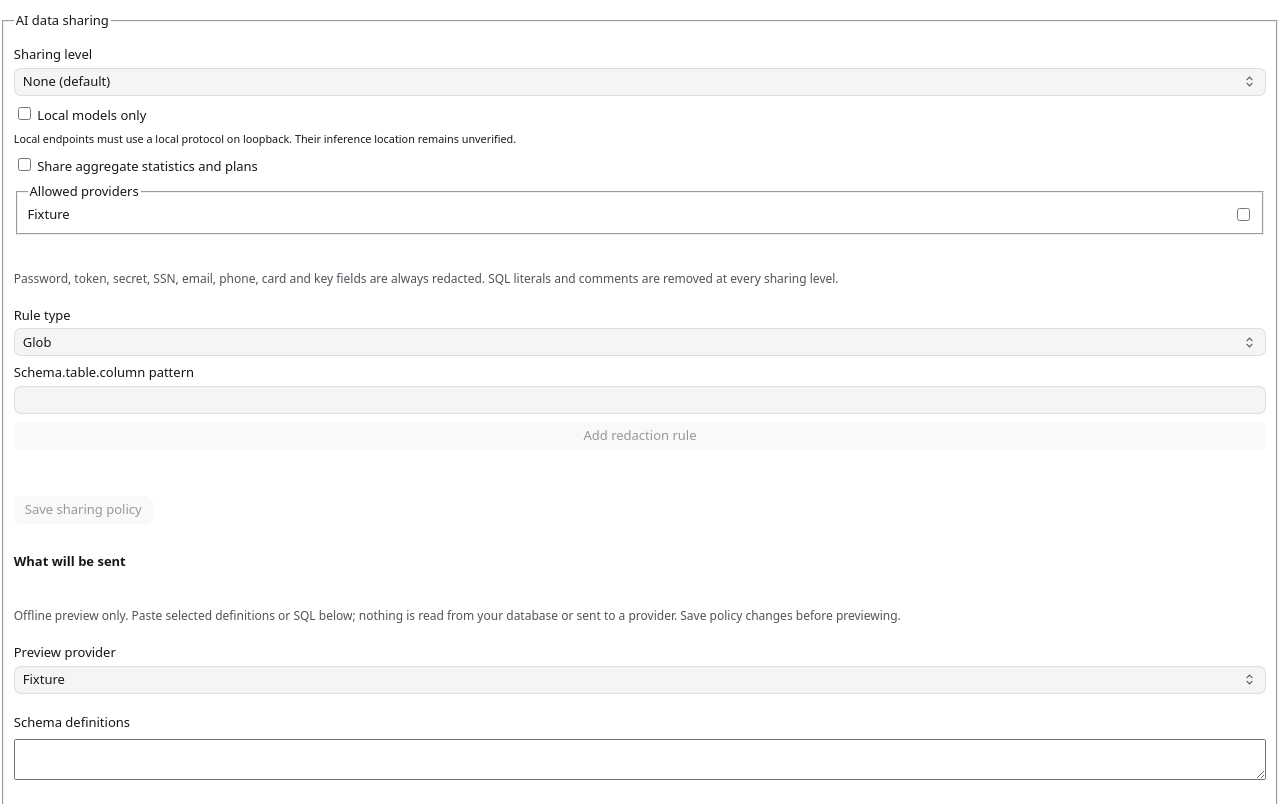
Test case: edits level, provider allowlist, local-only, telemetry and rules before native save
Select "Sample rows" in the dropdown labelled "Sharing level" at [640, 82], box top-left (15, 69), bottom-right (1265, 95)
Click the checkbox named "Allow Fixture" at [1243, 215], box top-left (1236, 208), bottom-right (1250, 221)
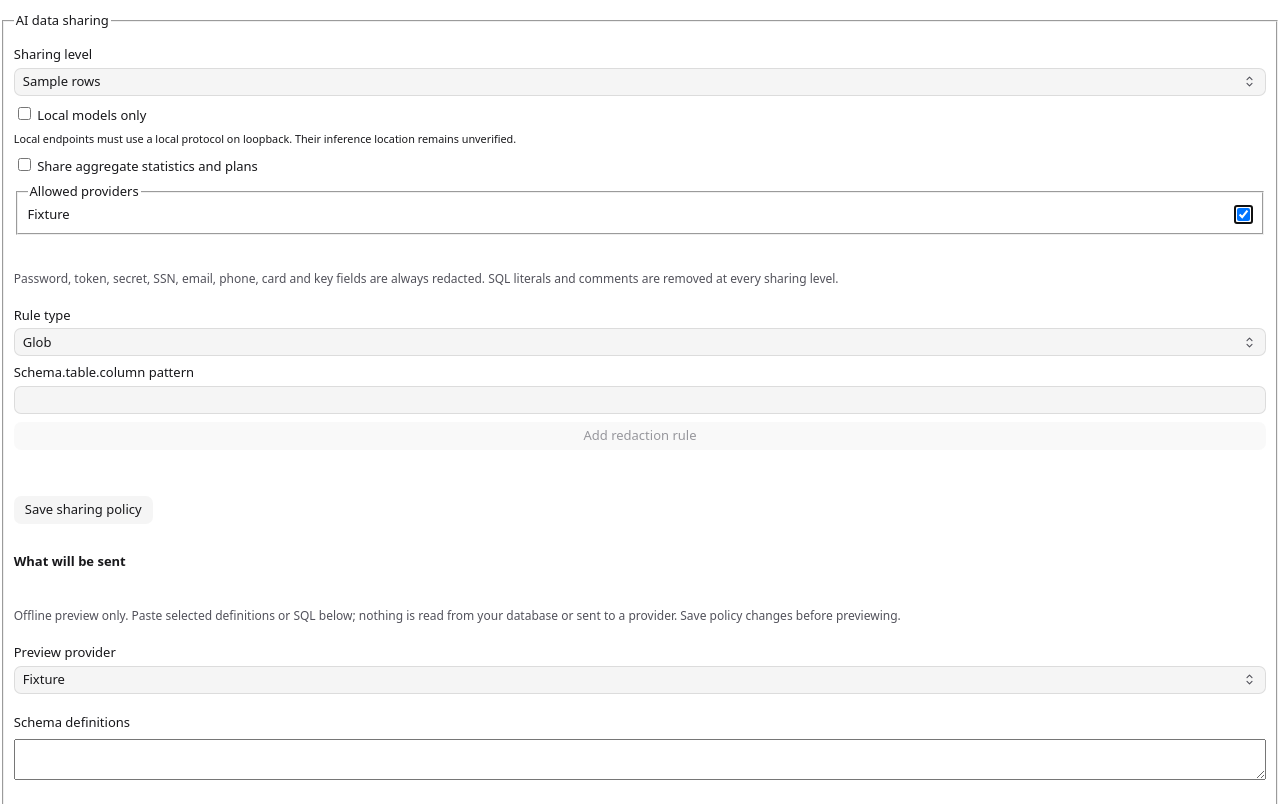
Click the checkbox labelled "Local models only" at [24, 113], box top-left (18, 107), bottom-right (31, 120)
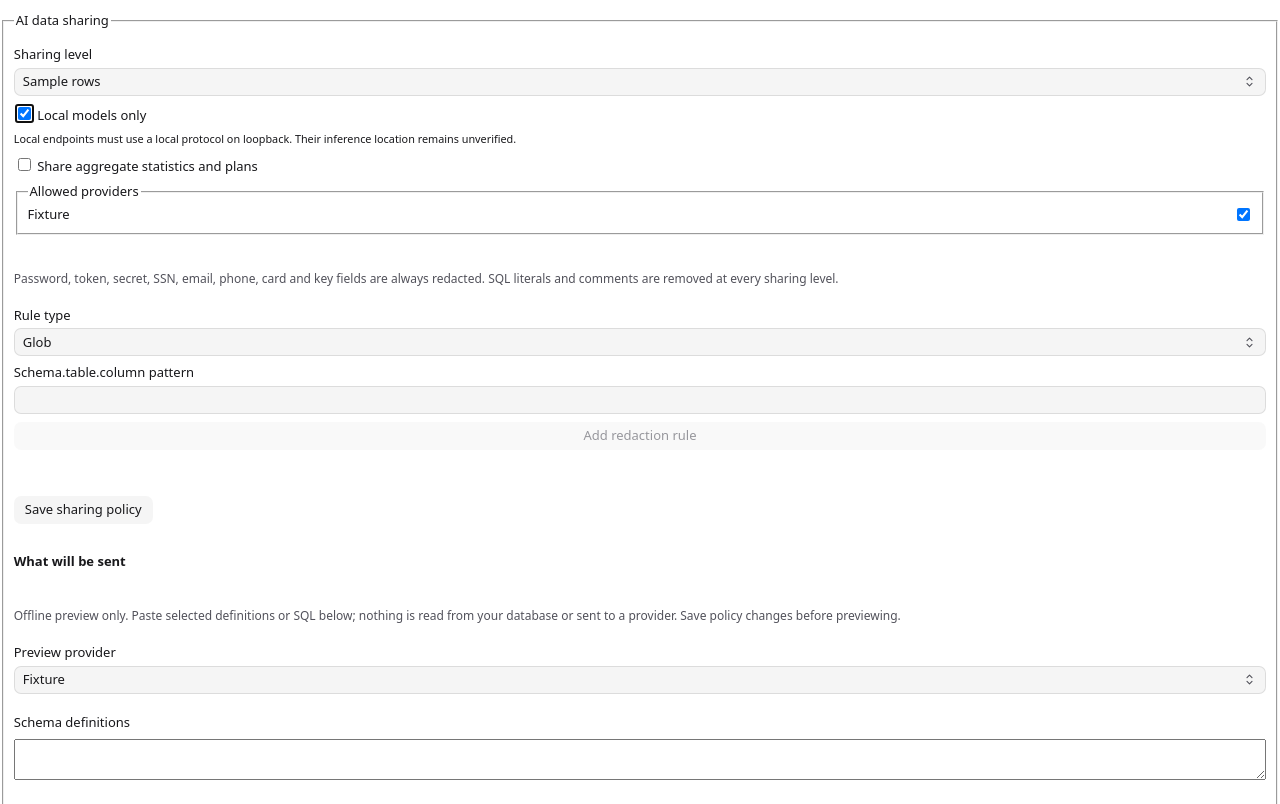
Click the checkbox labelled "Share aggregate statistics and plans" at [24, 164], box top-left (18, 158), bottom-right (31, 171)
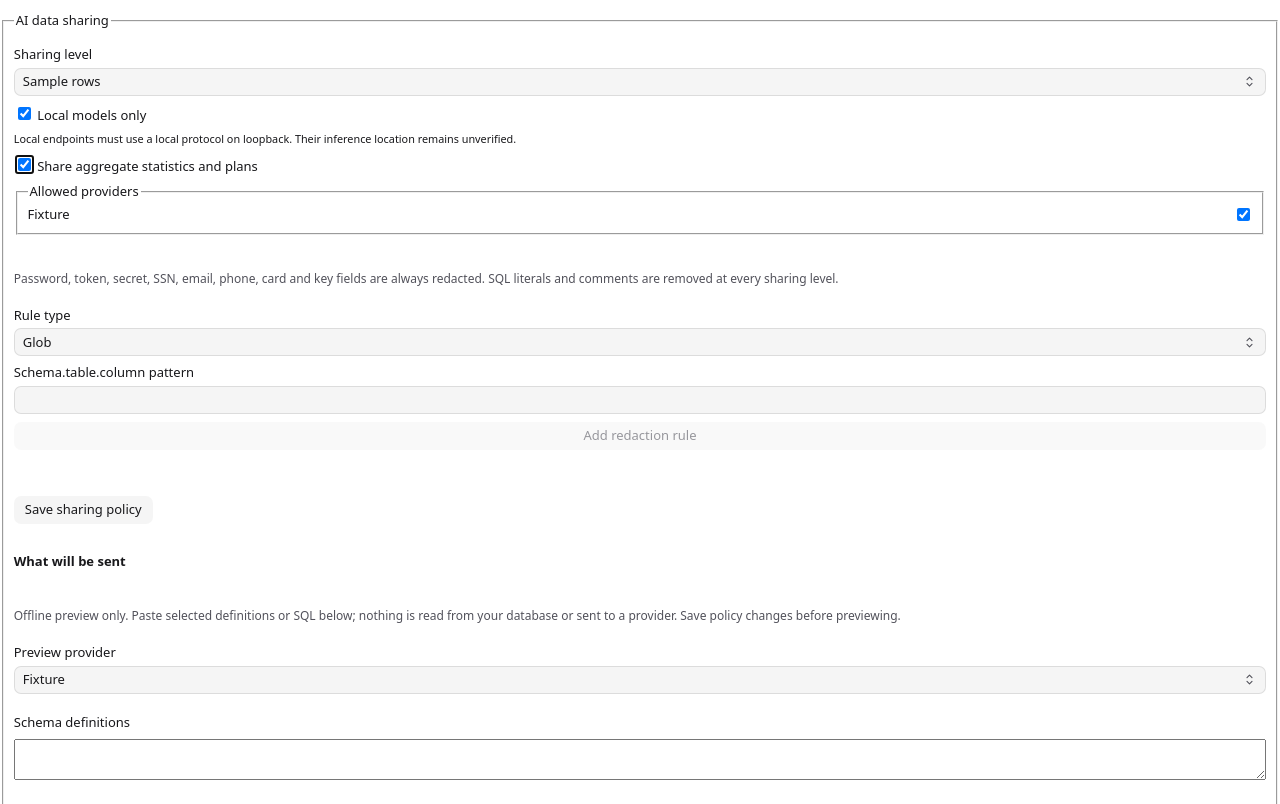
Type "public.people.note" into the field labelled "Schema.table.column pattern" at [640, 400], box top-left (15, 387), bottom-right (1265, 413)
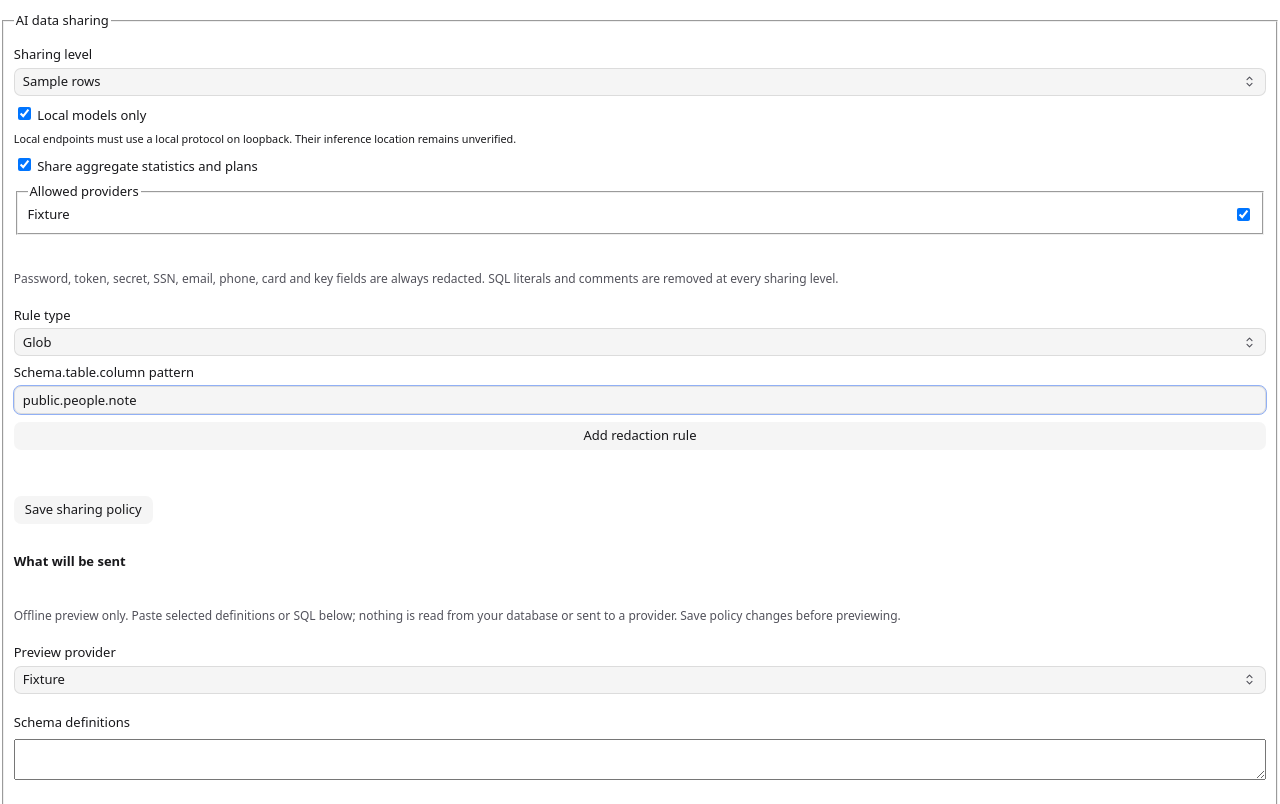
Click the button "Add redaction rule" at [640, 436], box top-left (14, 422), bottom-right (1266, 450)
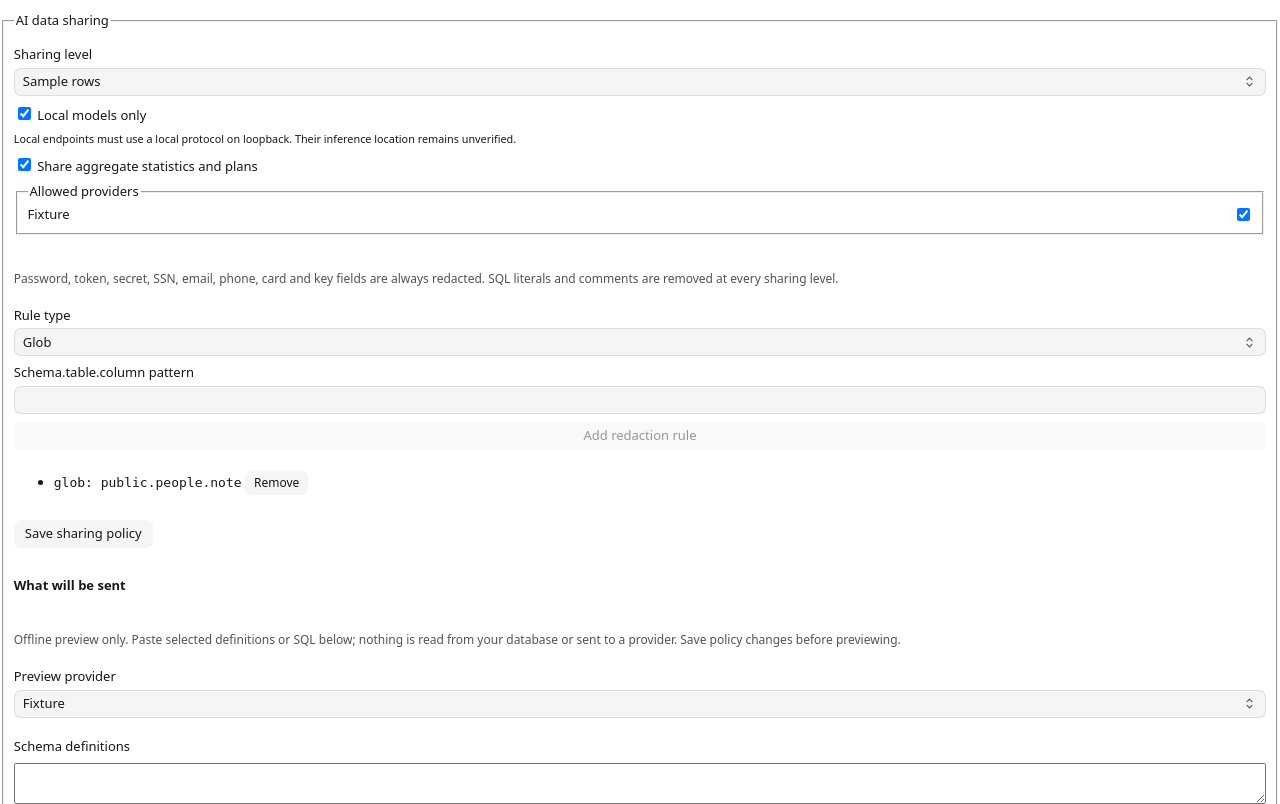
Click the button "Save sharing policy" at [83, 534], box top-left (14, 520), bottom-right (153, 548)
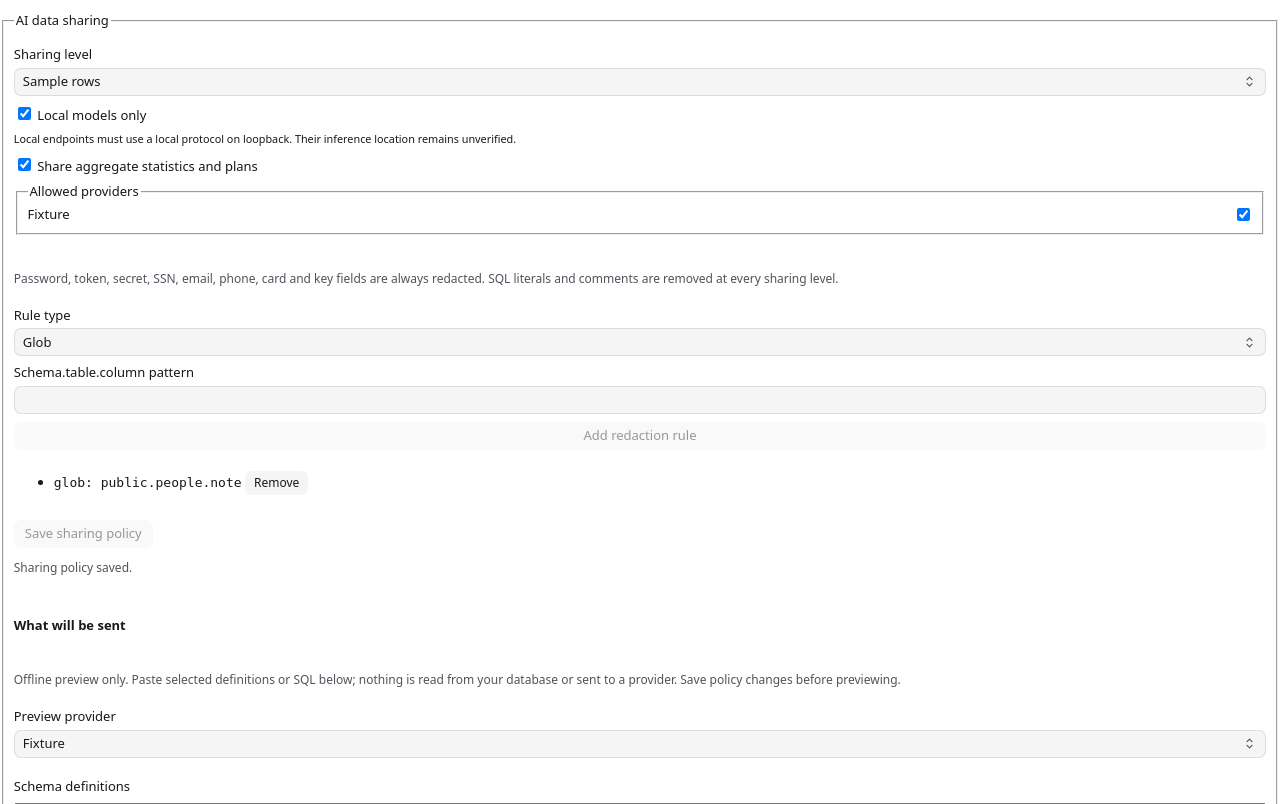
Expected: the text "Sharing policy saved." is shown, top-left (14, 559), bottom-right (132, 576)
